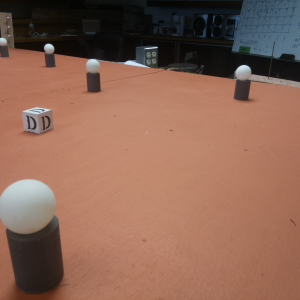blockD: (21, 108, 53, 134)
corner: (1, 14, 11, 45)
obstacle: (235, 63, 251, 101), (87, 59, 101, 93), (43, 42, 55, 66), (1, 37, 10, 57)
